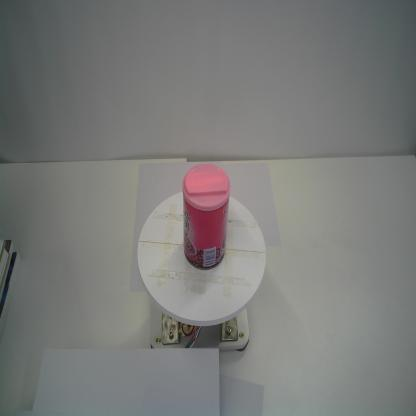Canned Food: (182, 162, 231, 271)
